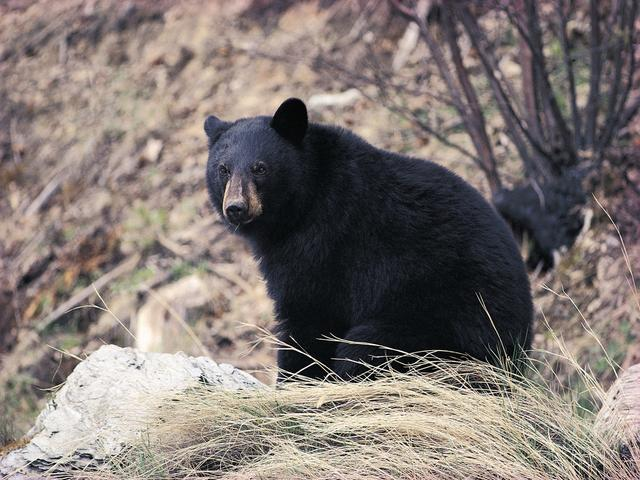bear: (158, 52, 619, 364)
